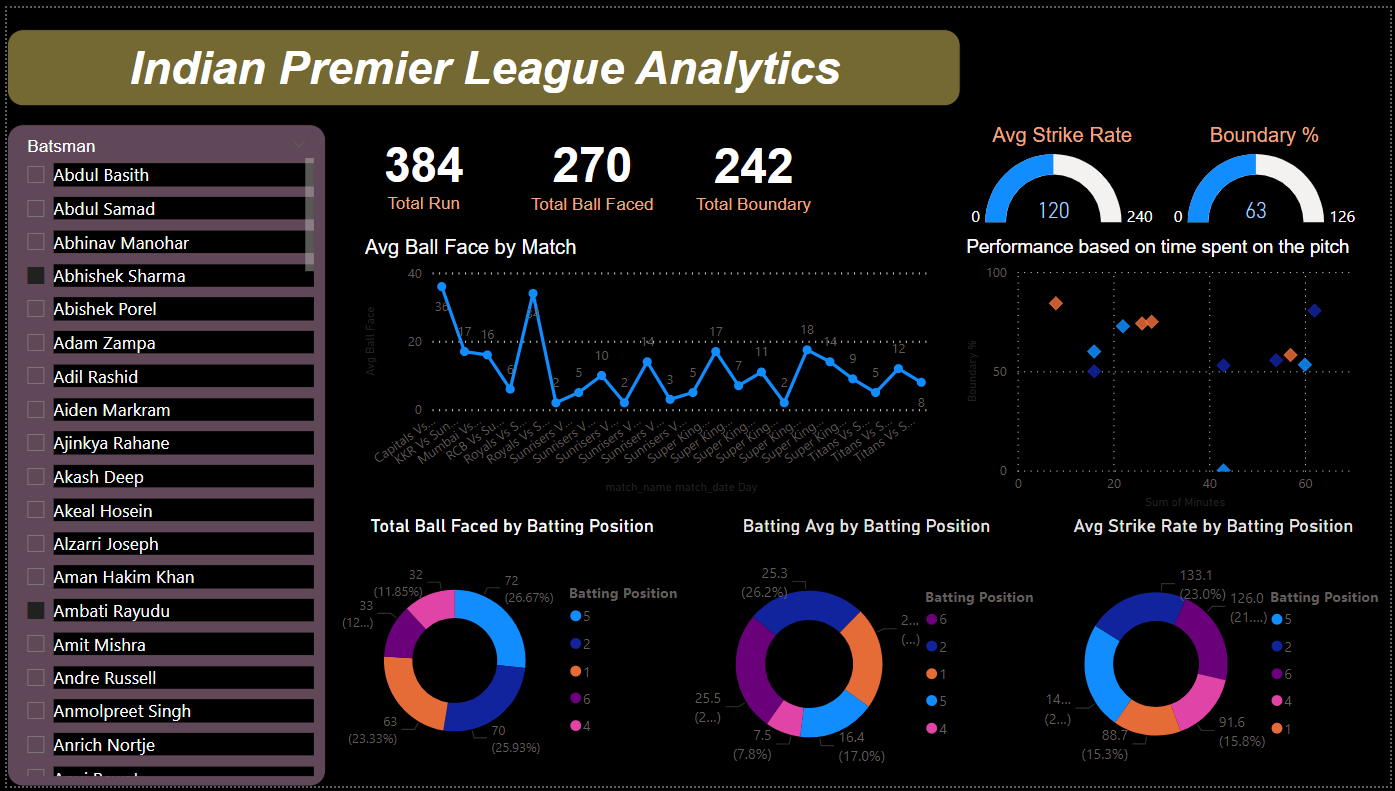

What the dashboard file says about the page in this screenshot:
{"tool":"powerbi","page":{"name":"IPL Analytics","canvas":[1280,720],"ordinal":1},"visuals":[{"type":"textbox","box":[0,19.2,882.8,71.2],"z":0},{"type":"donutChart","fields":{"Y":["measures_data.Avg Strike Rate"],"Category":["batting_summery.Batting Position"]},"box":[952.8,467.9,326.7,252.1],"z":1000},{"type":"donutChart","fields":{"Y":["measures_data.Total Ball Faced"],"Category":["batting_summery.Batting Position"]},"box":[304.1,467.9,326.7,252.1],"z":2000},{"type":"slicer","fields":{"Values":["batting_summery.Batsman"]},"box":[0,107.5,295,612.5],"z":3000},{"type":"lineChart","title":"Avg Ball Face by Match","fields":{"Y":["measures_data.Avg Ball Face"],"Category":["match_summery.match_name","match_summery.match_date.Variation.Date Hierarchy.Year","match_summery.match_date.Variation.Date Hierarchy.Month","match_summery.match_date.Variation.Date Hierarchy.Day"]},"box":[326.7,210.2,533.5,244.1],"z":4000},{"type":"card","fields":{"Values":["measures_data.Total Run"]},"box":[312,107.4,146.9,88.2],"z":5000},{"type":"card","fields":{"Values":["measures_data.Total Boundary"]},"box":[616.2,108.8,148.8,87.5],"z":6000},{"type":"donutChart","fields":{"Y":["measures_data.Batting Avg"],"Category":["batting_summery.Batting Position"]},"box":[630.7,467.9,330,252.1],"z":7000},{"type":"scatterChart","title":"Performance based on time spent on the pitch","fields":{"Category":["batting_summery.Fours","batting_summery.Sixes"],"X":["Sum(batting_summery.Minutes)"],"Y":["measures_data.Boundary %"]},"box":[882.5,210,375,257.5],"z":8000},{"type":"gauge","fields":{"Y":["measures_data.Avg Strike Rate"]},"box":[882.8,107.4,187.6,102.9],"z":9000},{"type":"card","fields":{"Values":["measures_data.Total Ball Faced"]},"box":[467.5,107.5,148.8,88.8],"z":10000},{"type":"gauge","fields":{"Y":["measures_data.Boundary %"]},"box":[1070.4,107.4,187.6,102.9],"z":10001}]}

Visuals, with their boxes in screenshot pixels (x1, y1, x2, y2), scaled from the page's 1280x720 canvas onto the 1395x791 screenshot:
textbox: bbox=[0, 21, 962, 99]
donutChart - measures_data.Avg Strike Rate x batting_summery.Batting Position: bbox=[1038, 514, 1394, 790]
donutChart - measures_data.Total Ball Faced x batting_summery.Batting Position: bbox=[331, 514, 687, 790]
slicer - batting_summery.Batsman: bbox=[0, 118, 322, 790]
"Avg Ball Face by Match" lineChart: bbox=[356, 231, 937, 499]
card - measures_data.Total Run: bbox=[340, 118, 500, 215]
card - measures_data.Total Boundary: bbox=[672, 120, 834, 216]
donutChart - measures_data.Batting Avg x batting_summery.Batting Position: bbox=[687, 514, 1047, 790]
"Performance based on time spent on the pitch" scatterChart: bbox=[962, 231, 1370, 514]
gauge - measures_data.Avg Strike Rate: bbox=[962, 118, 1167, 231]
card - measures_data.Total Ball Faced: bbox=[510, 118, 672, 216]
gauge - measures_data.Boundary %: bbox=[1167, 118, 1371, 231]
